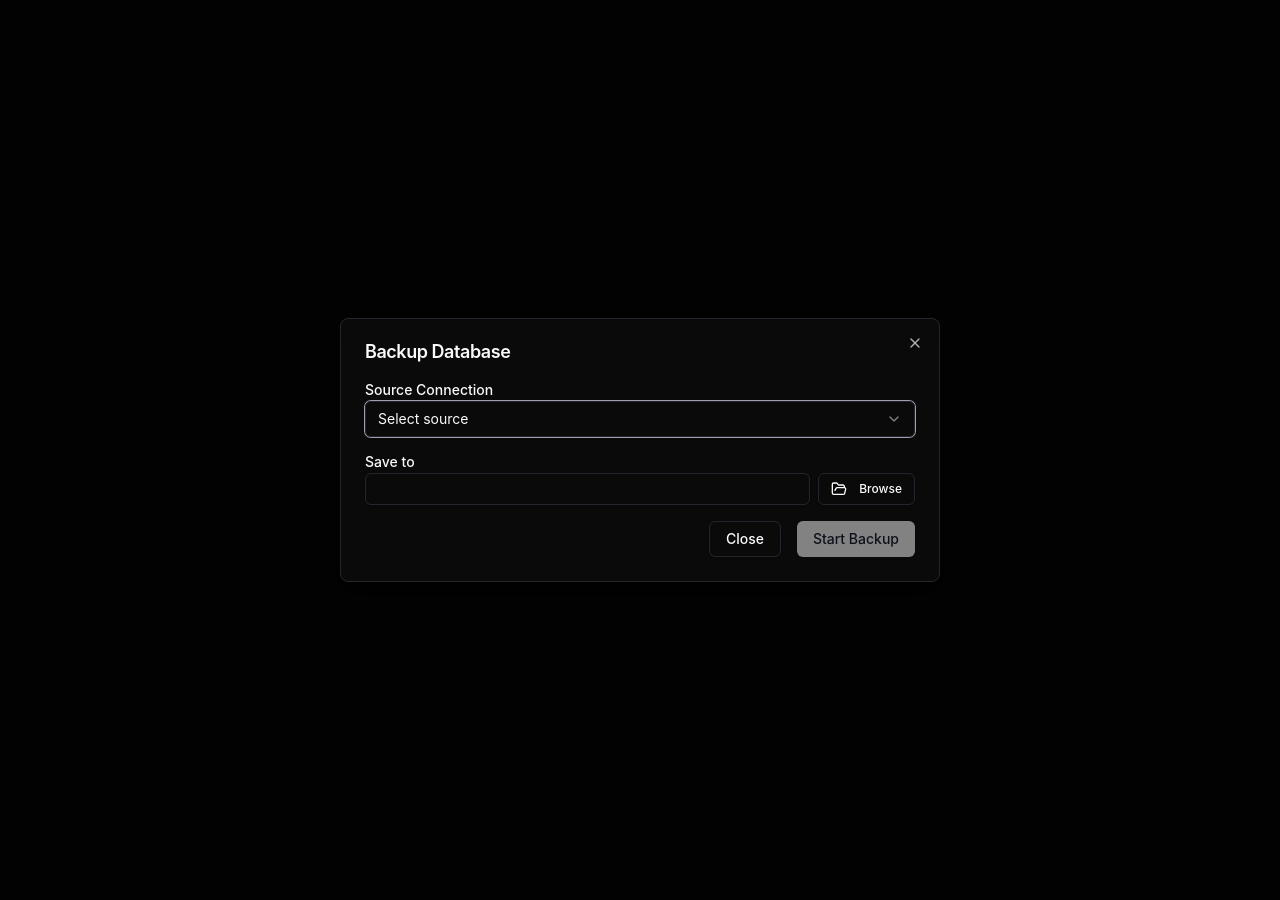
it: renders table checkboxes after selecting source database
Step 1. Click the dropdown "Select source" → (423, 418), box [365, 401, 915, 437]
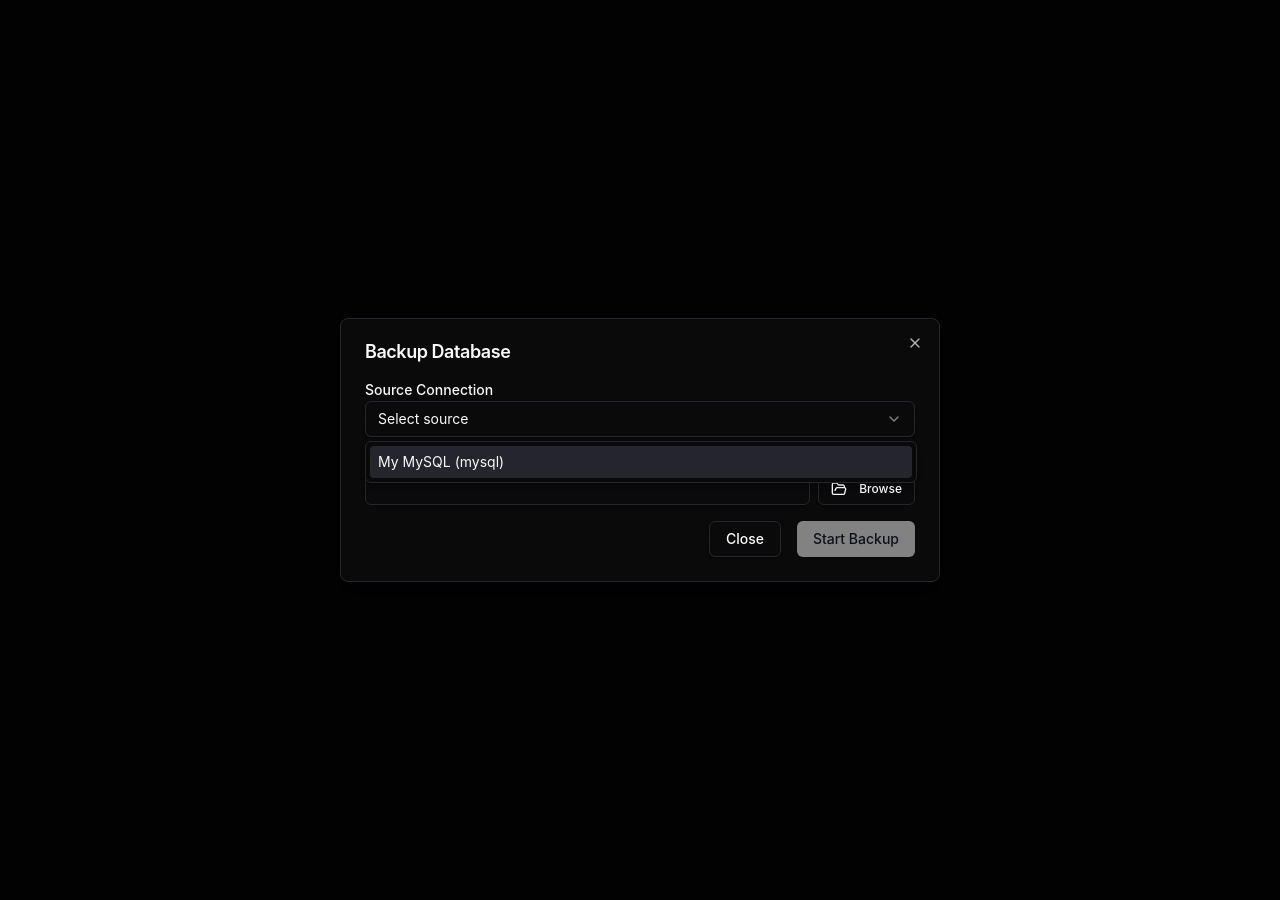
Step 2. Click the option "My MySQL (mysql)" → (414, 462), box [370, 446, 912, 478]
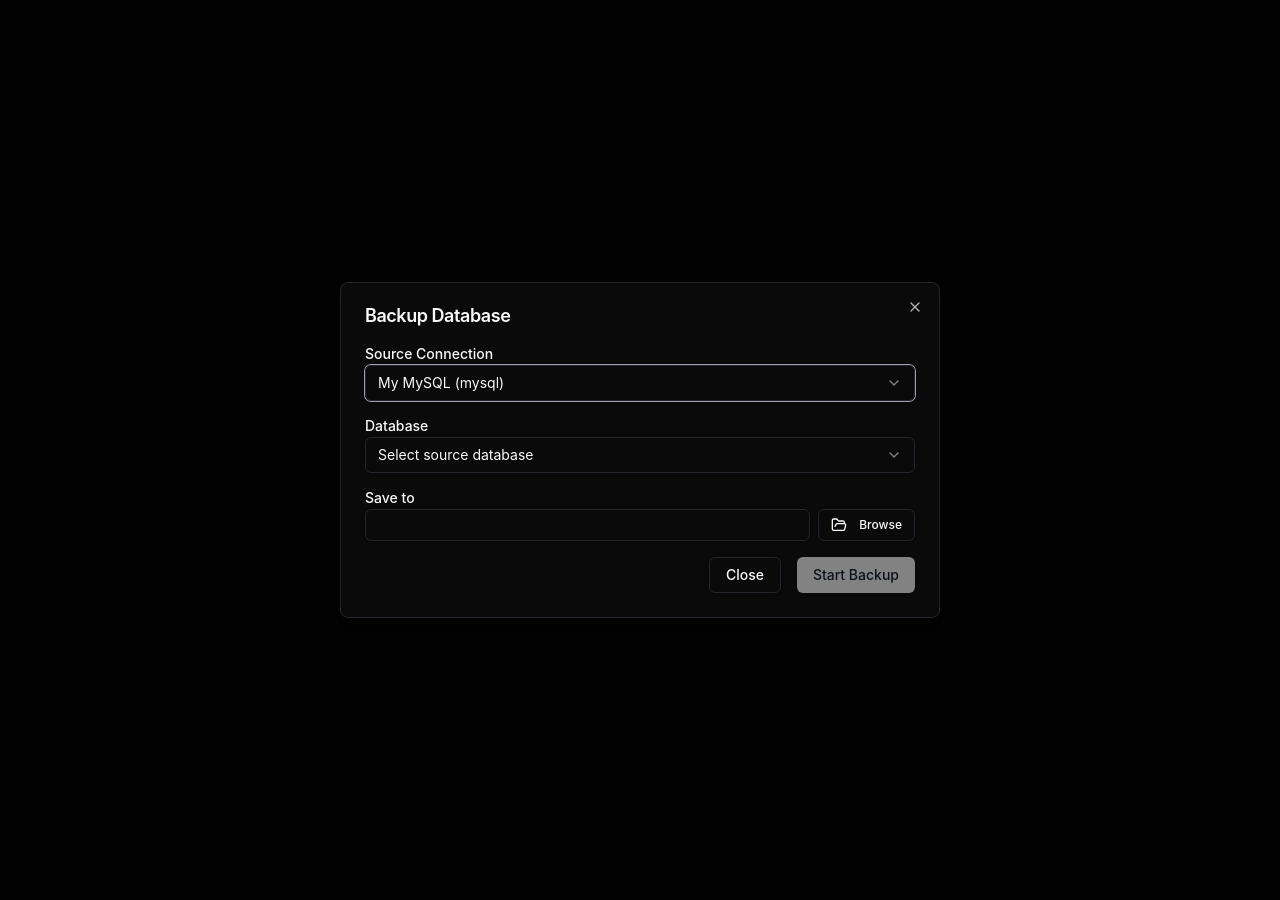
Expected: the text "Select source database" is shown, [378, 445, 534, 465]
Step 3. Click the dropdown "Select source database" → (456, 454), box [365, 437, 915, 473]
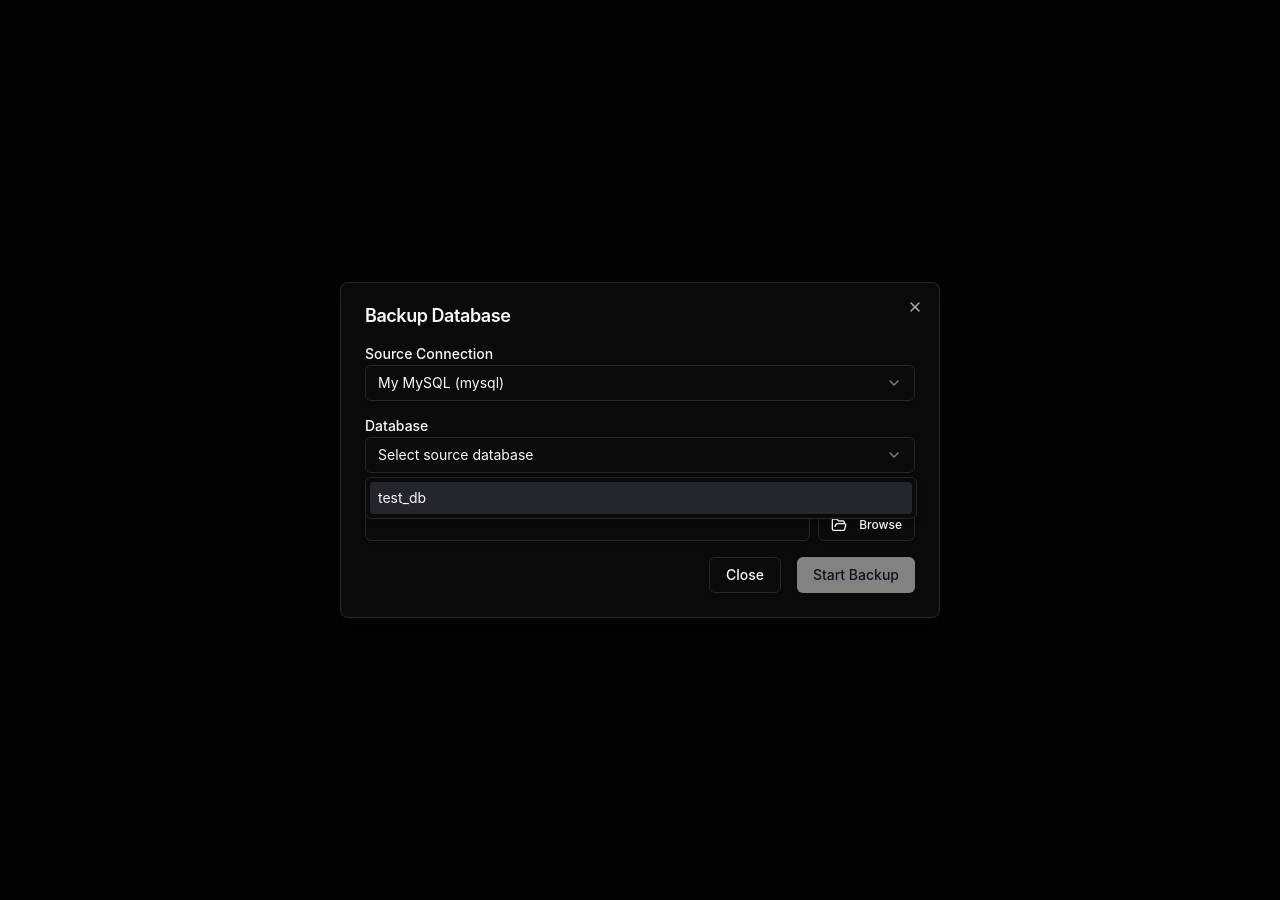
Step 4. Click the option "test_db" → (402, 498), box [370, 482, 912, 514]
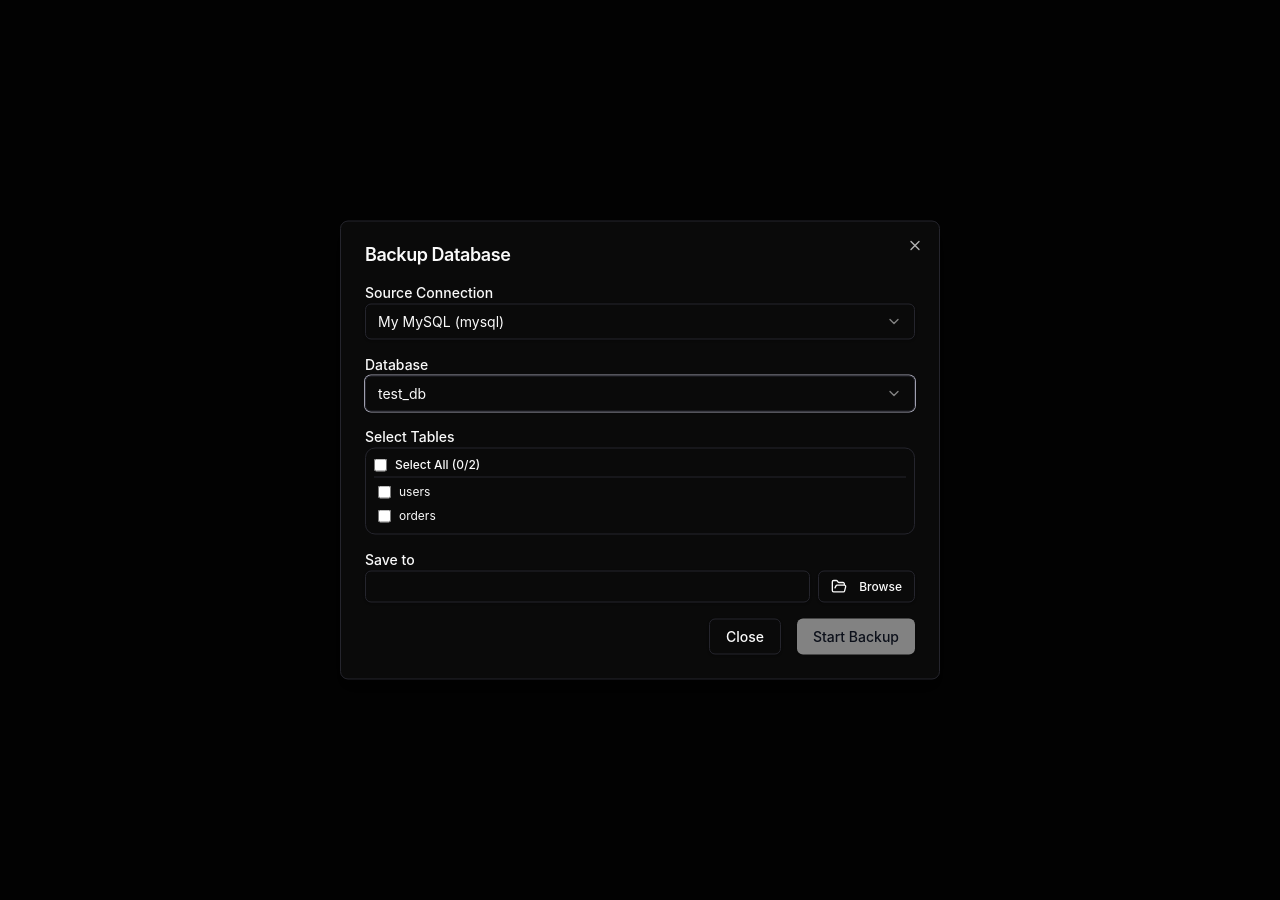
Expected: the text "users" is shown, [378, 484, 430, 498]
Expected: the text "orders" is shown, [378, 508, 436, 522]
